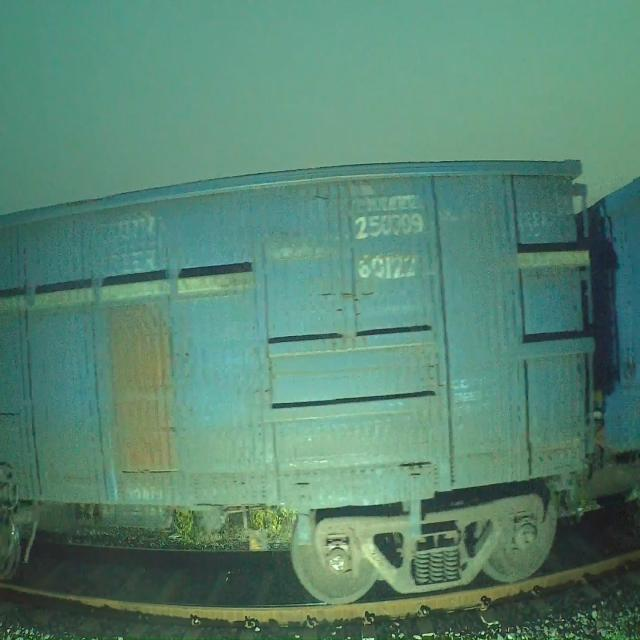WAgon-uic: (0, 156, 588, 607), (515, 178, 640, 490)
uic: (351, 211, 425, 282)
